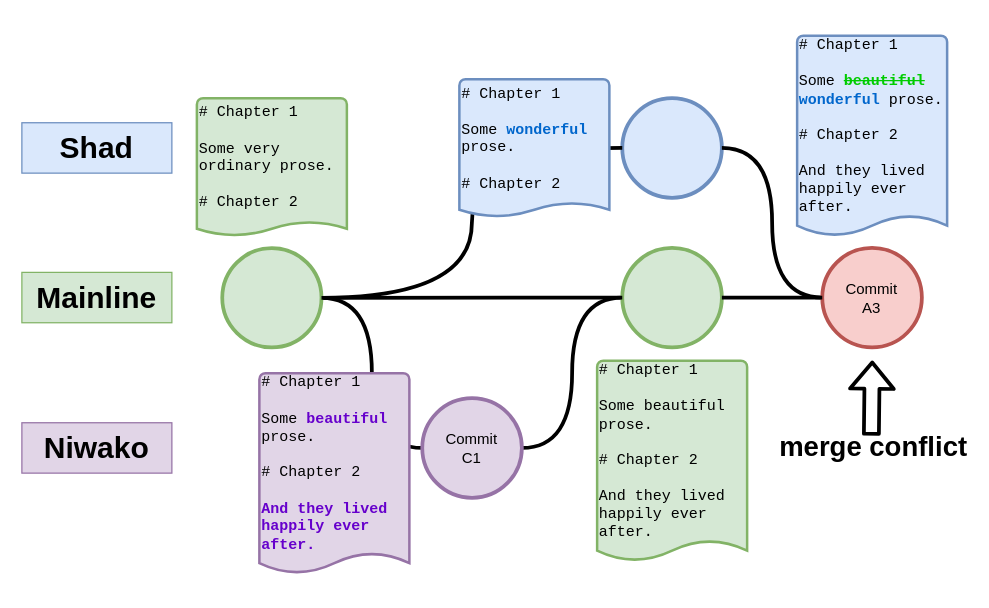
This 989x608 diagram has some shape labels left out. Each missing label, with the centre of its shape:
"Commit A1" belongs at (271,297).
"Commit A2" belongs at (671,297).
"Commit B1" belongs at (671,147).
